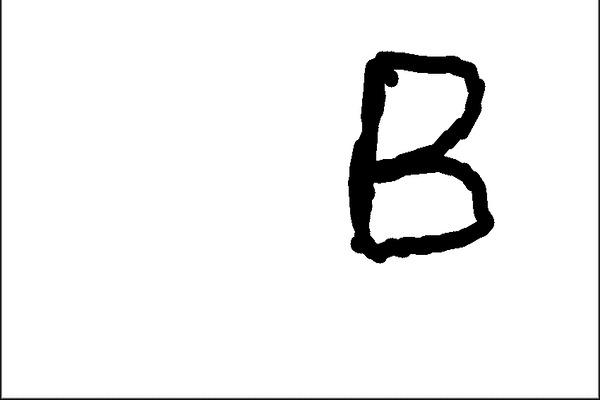B: (338, 40, 506, 268)
